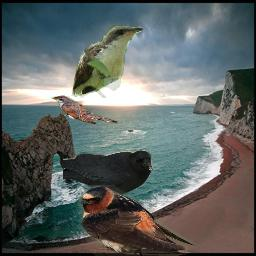Crow: (63, 150, 153, 225)
Cuckoo: (71, 25, 143, 98), (51, 94, 119, 127)
Swallow: (78, 185, 197, 256)
